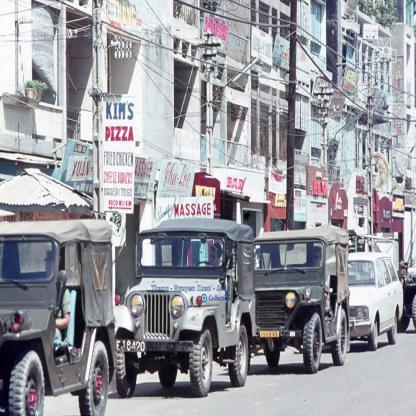car: (324, 249, 404, 350)
